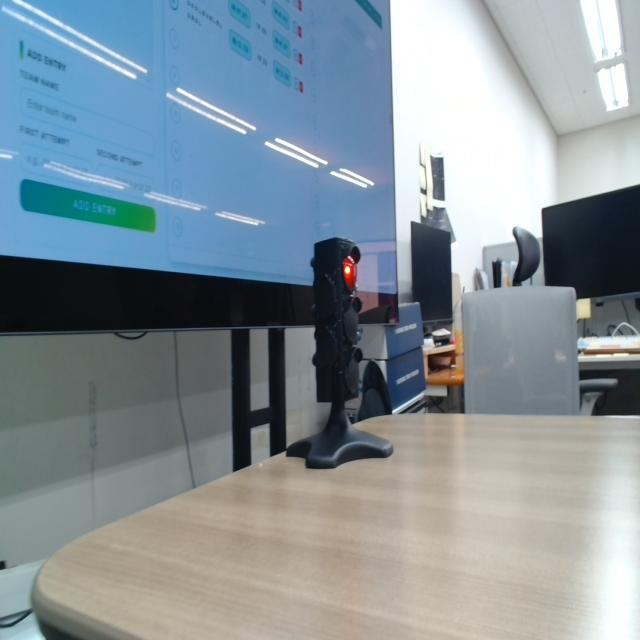red_light: (343, 256, 356, 291)
